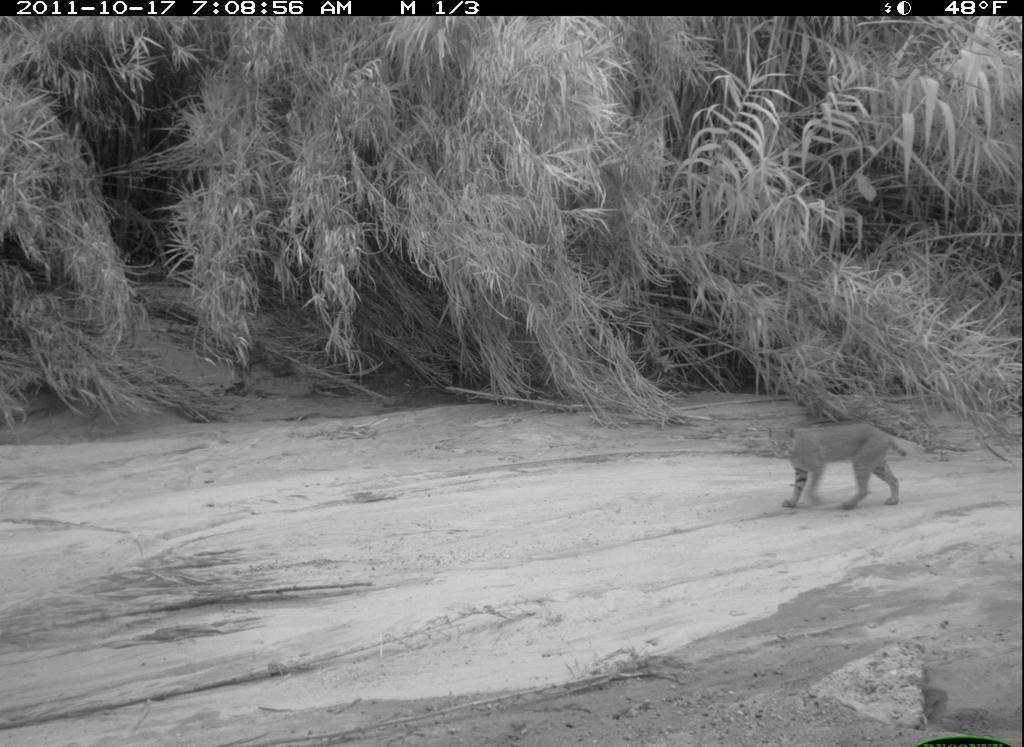bobcat: (760, 414, 914, 516)
